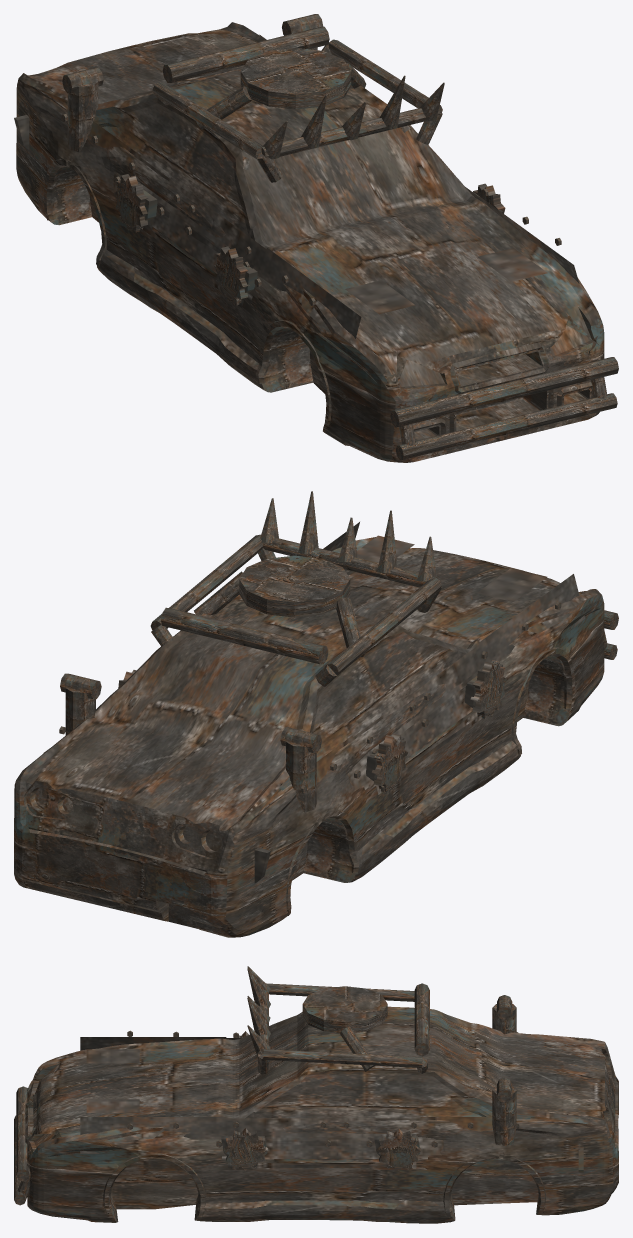
The model's file is nissan_skyline_gtr_r34.glb.
3 views of the same model, one above another, from view 1: azimuth 30°, elevation 25°; view 2: azimuth 150°, elevation 25°; view 3: azimuth 270°, elevation 25° (orthographic). The views are drawn at different scales.
Parts seen in each view (by area): view 1: kit-full-plating-painted-metal, kit-bull-bar-painted-metal, kit-turret-mount-painted-metal, kit-cage-painted-metal, kit-scrapper-painted-metal, warlord-crossbar, kit-crown-painted-metal, kit-plate-2-painted-metal, kit-stack-0-painted-metal, kit-saw-0-guard-painted-metal, kit-saw-1-guard-painted-metal, kit-plate-0-painted-metal (+2 smaller); view 2: kit-full-plating-painted-metal, kit-turret-mount-painted-metal, kit-cage-painted-metal, kit-scrapper-painted-metal, warlord-crossbar, kit-crown-painted-metal, kit-plate-2-painted-metal, kit-stack-0-painted-metal, kit-stack-1-painted-metal, kit-saw-1-guard-painted-metal, kit-saw-0-guard-painted-metal, kit-plate-3-painted-metal (+1 smaller); view 3: kit-full-plating-painted-metal, kit-scrapper-painted-metal, kit-turret-mount-painted-metal, kit-cage-painted-metal, kit-plate-0-painted-metal, kit-bull-bar-painted-metal, kit-stack-1-painted-metal, kit-saw-0-painted-metal, kit-saw-1-painted-metal, kit-crown-painted-metal, warlord-crossbar, kit-raider-painted-metal (+3 smaller).
Boxes of the visible parts, x1,y1,x2,y2 form: kit-full-plating-painted-metal: (14, 22, 604, 462); kit-bull-bar-painted-metal: (390, 357, 618, 459); kit-turret-mount-painted-metal: (196, 48, 366, 129); kit-cage-painted-metal: (152, 39, 442, 182); kit-scrapper-painted-metal: (129, 154, 488, 300); warlord-crossbar: (162, 26, 329, 82); kit-crown-painted-metal: (262, 75, 444, 159); kit-plate-2-painted-metal: (250, 248, 361, 361); kit-stack-0-painted-metal: (62, 67, 103, 152); kit-saw-0-guard-painted-metal: (114, 174, 157, 232); kit-saw-1-guard-painted-metal: (214, 246, 257, 302); kit-plate-0-painted-metal: (479, 196, 579, 283); kit-full-plating-painted-metal: (14, 535, 604, 937); kit-turret-mount-painted-metal: (194, 555, 365, 657); kit-cage-painted-metal: (150, 534, 441, 686); kit-scrapper-painted-metal: (128, 643, 488, 789); warlord-crossbar: (161, 607, 328, 664); kit-crown-painted-metal: (260, 491, 436, 581); kit-plate-2-painted-metal: (478, 574, 584, 662); kit-stack-0-painted-metal: (280, 727, 321, 812); kit-stack-1-painted-metal: (60, 673, 101, 735); kit-saw-1-guard-painted-metal: (464, 660, 506, 718); kit-saw-0-guard-painted-metal: (366, 733, 407, 791); kit-plate-3-painted-metal: (258, 736, 368, 849); kit-full-plating-painted-metal: (25, 1006, 618, 1223); kit-scrapper-painted-metal: (222, 1032, 427, 1159); kit-turret-mount-painted-metal: (302, 986, 387, 1071); kit-cage-painted-metal: (257, 983, 427, 1074); kit-plate-0-painted-metal: (80, 1116, 226, 1155); kit-bull-bar-painted-metal: (14, 1086, 30, 1205); kit-stack-1-painted-metal: (492, 1077, 516, 1145); kit-saw-0-painted-metal: (374, 1128, 421, 1171); kit-saw-1-painted-metal: (221, 1128, 268, 1171); kit-crown-painted-metal: (247, 966, 270, 1055); warlord-crossbar: (414, 983, 429, 1056); kit-raider-painted-metal: (210, 1140, 443, 1170).
Bounding box in the file's own units: 1.85 × 1.72 × 4.73.
Materials: 1 (1 with a texture image).
